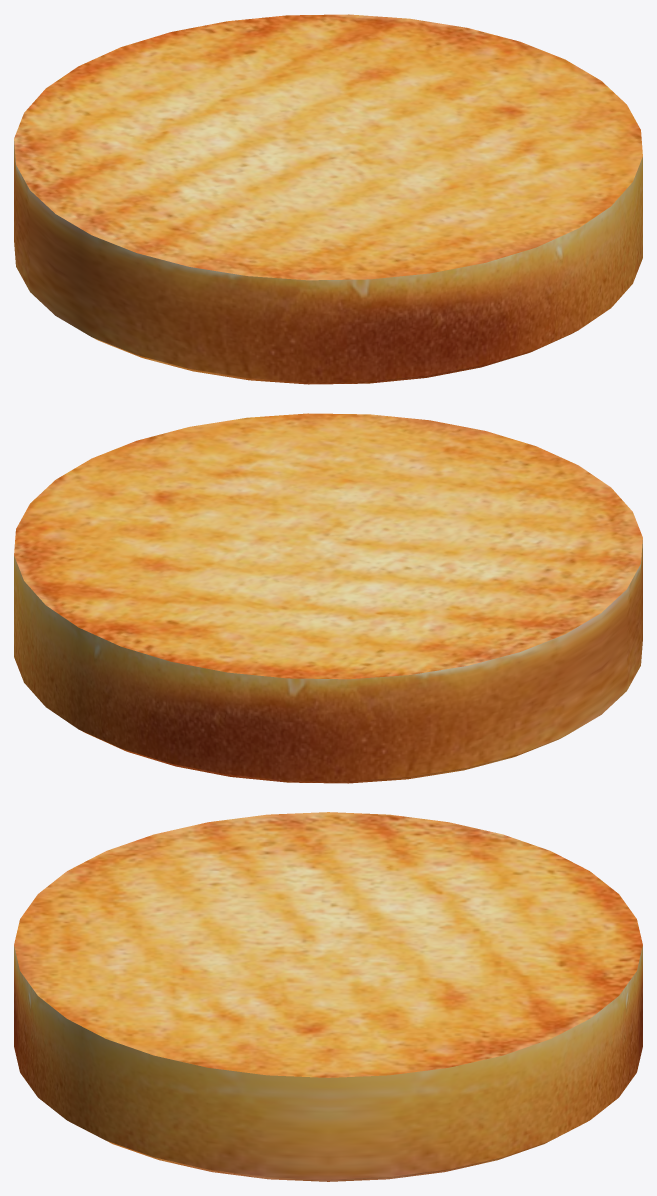
The model's file is onderkant broodje We are cooked.fbx.
3 views of the same model, one above another, from view 1: azimuth 30°, elevation 25°; view 2: azimuth 150°, elevation 25°; view 3: azimuth 270°, elevation 25° (orthographic).
Visible parts, largest first — view 1: onderkant broodje; view 2: onderkant broodje; view 3: onderkant broodje.
Part boxes in pixels (box(x1,y1,x2,y2)): onderkant broodje: box(14, 14, 642, 384); onderkant broodje: box(14, 413, 642, 783); onderkant broodje: box(14, 812, 642, 1181).
Bounding box in the file's own units: 10 × 2 × 10.
